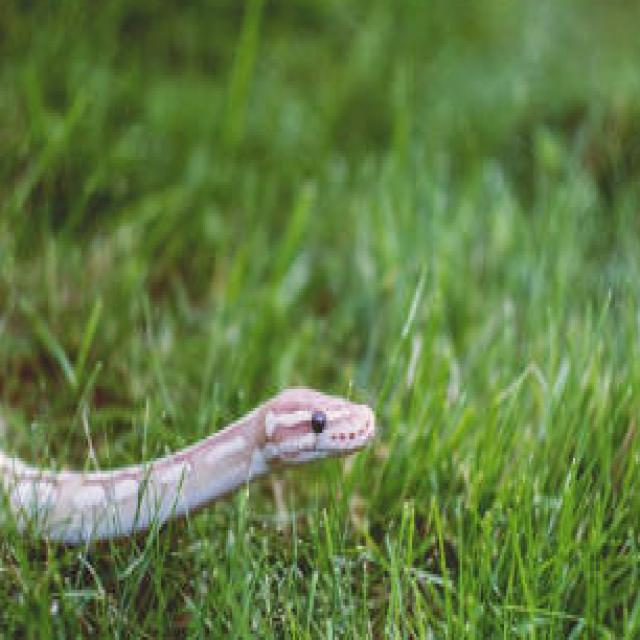Snake: (0, 175, 376, 549)
